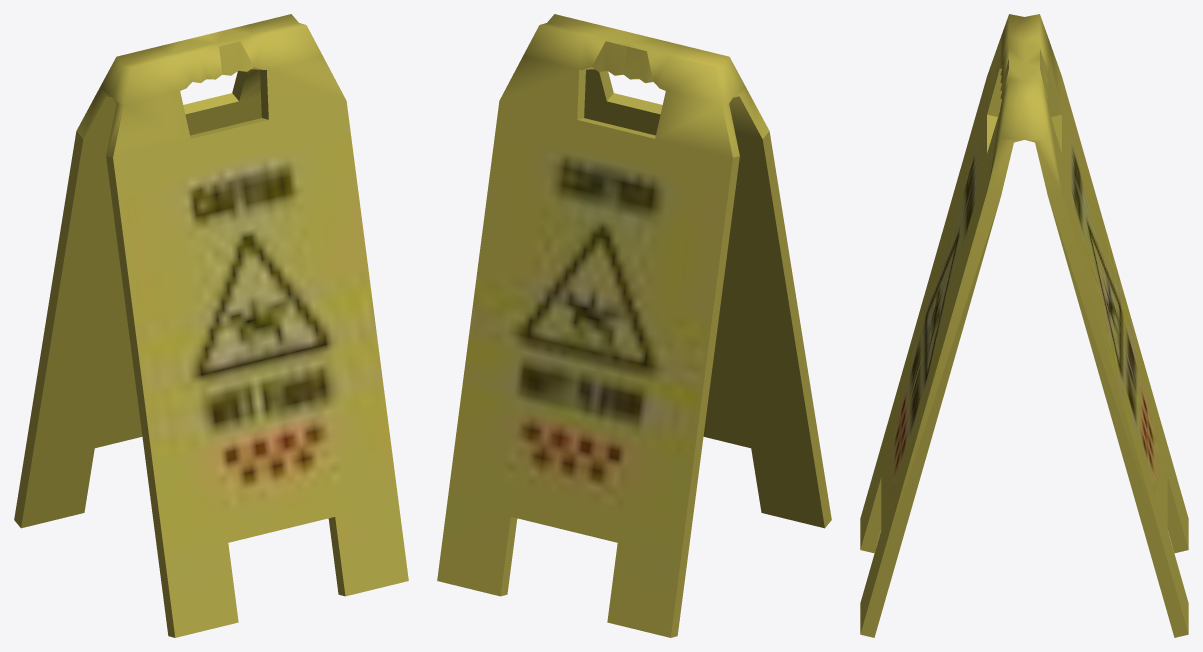
The model's file is wet_floor_sign.glb.
3 renders of one model, left to right at view 1: azimuth 30°, elevation 25°; view 2: azimuth 150°, elevation 25°; view 3: azimuth 270°, elevation 25°, orthographic.
Visible parts, largest first — view 1: prop; view 2: prop; view 3: prop.
Part boxes in pixels (box(x1,y1,x2,y2)): prop: box(14, 14, 408, 637); prop: box(437, 14, 831, 637); prop: box(860, 14, 1188, 637).
Size of the model in its own units: 0.3003 by 0.63 by 0.3588.
1 material, 1 textured.
